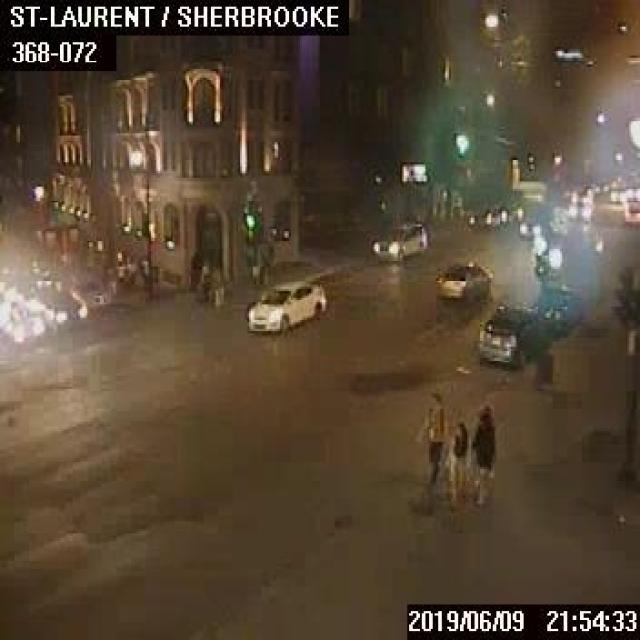pedestrian: (469, 402, 494, 505), (418, 391, 445, 481), (447, 418, 468, 499), (188, 248, 200, 286), (199, 261, 210, 301)
vehicle: (244, 278, 326, 333), (473, 300, 536, 364), (23, 282, 87, 328), (533, 286, 582, 330), (372, 220, 425, 260), (435, 260, 489, 298), (465, 206, 498, 228), (517, 213, 542, 237), (568, 199, 593, 220)
